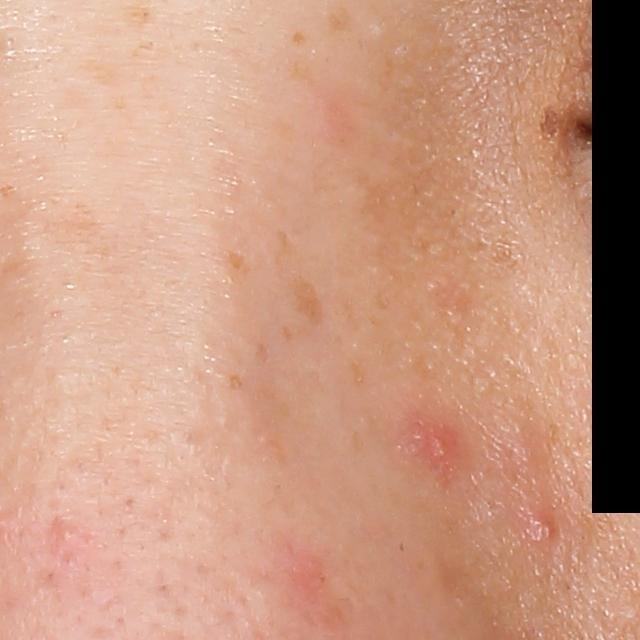melasma: (316, 101, 410, 325), (291, 278, 326, 331), (223, 250, 250, 276), (226, 373, 244, 393), (276, 322, 292, 343), (291, 30, 308, 47)
papule: (524, 506, 558, 545), (56, 524, 76, 545)
